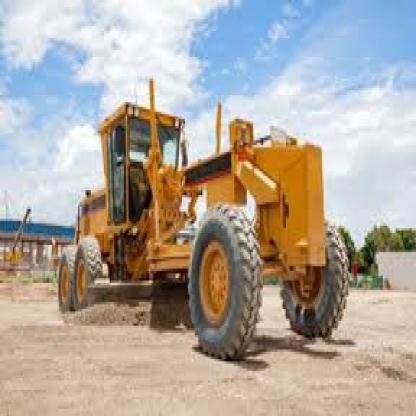bull_dozer/loader/grader: (43, 93, 364, 361)
